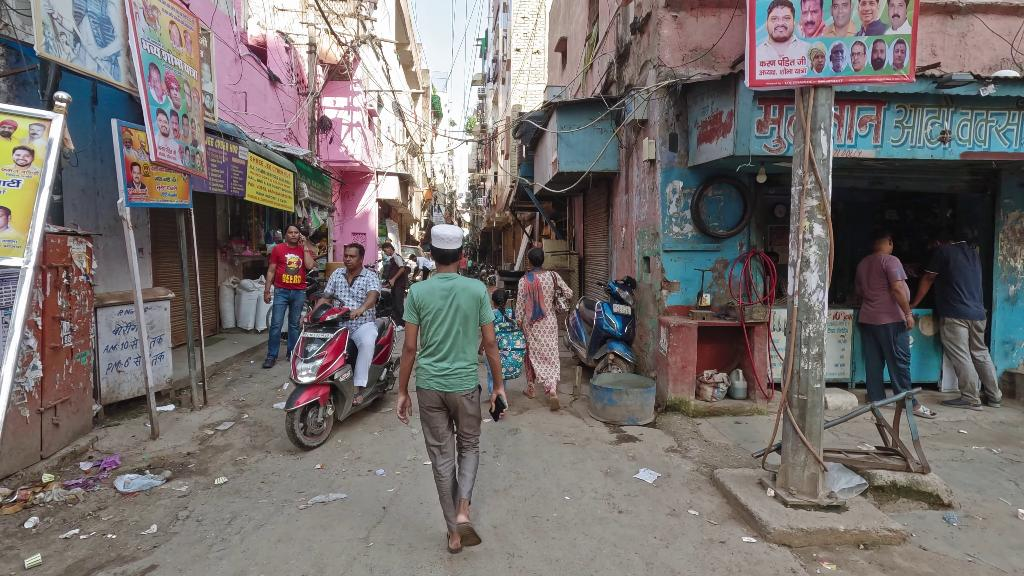garbage: (0, 469, 99, 505), (105, 465, 172, 497), (297, 487, 352, 515), (631, 464, 664, 491), (21, 548, 48, 567), (216, 415, 238, 433), (155, 396, 175, 415), (23, 513, 44, 529), (740, 533, 763, 545)
